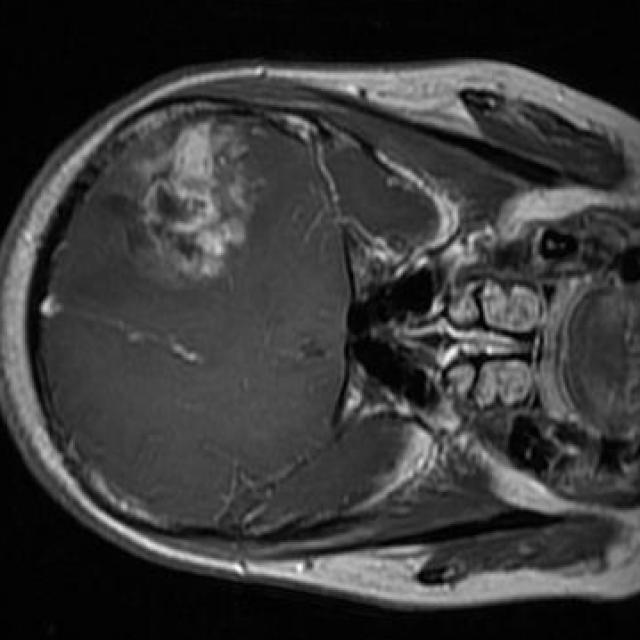glioma: (118, 114, 262, 287)
